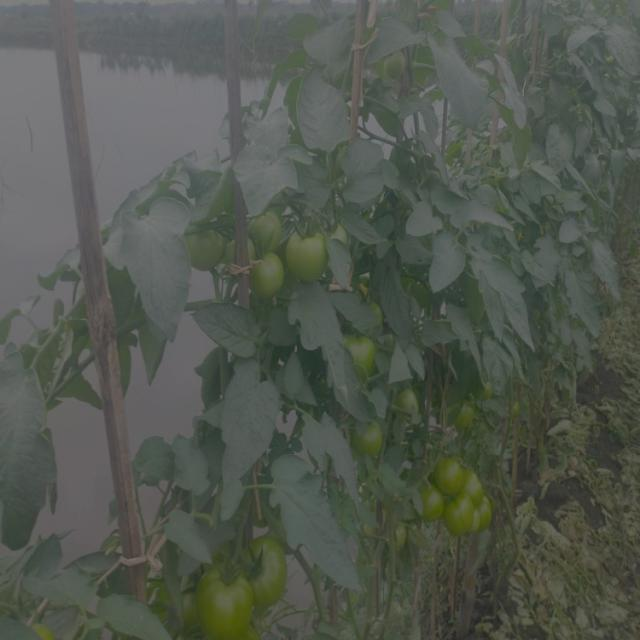tomato: (197, 564, 257, 640), (246, 539, 291, 598), (183, 213, 228, 270), (288, 224, 327, 283), (242, 248, 285, 300), (341, 327, 382, 377), (247, 202, 287, 248), (352, 415, 387, 454), (397, 381, 423, 423), (436, 455, 465, 491), (446, 494, 472, 532), (418, 490, 446, 522), (478, 496, 499, 533), (461, 401, 483, 429), (470, 471, 486, 494)
